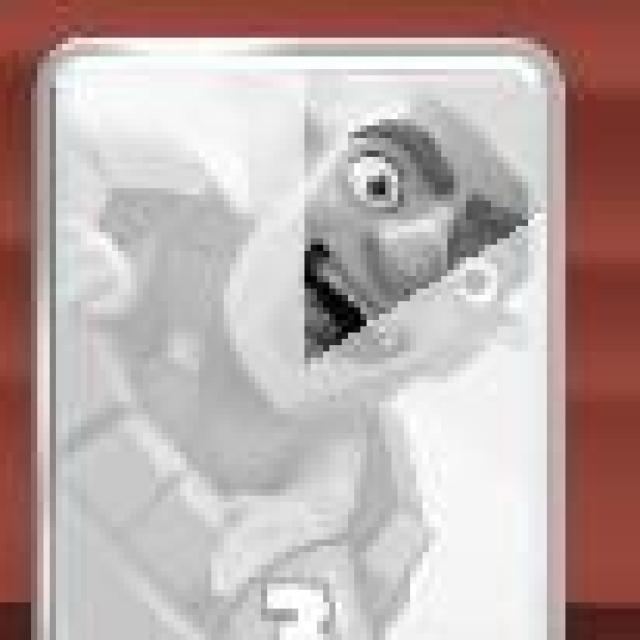Goblin_Barrel: (29, 28, 570, 640)
